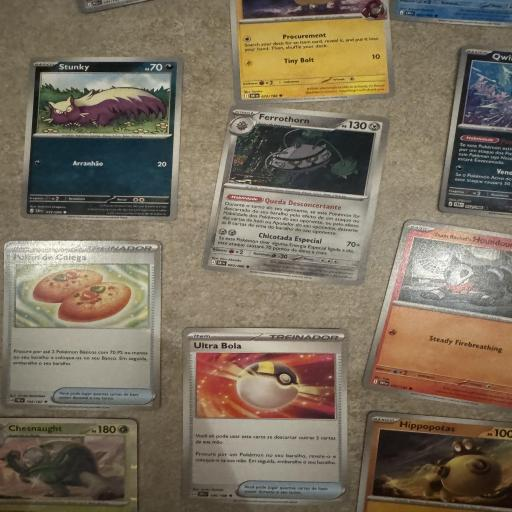card: (201, 99, 390, 287), (182, 326, 350, 507), (1, 237, 165, 411), (20, 54, 183, 221)
